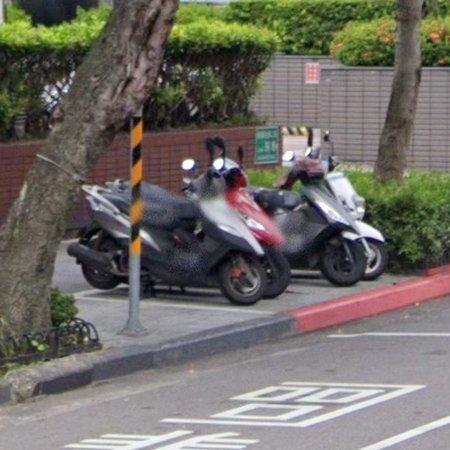motorcycles: (140, 159, 267, 306), (68, 180, 131, 288)
